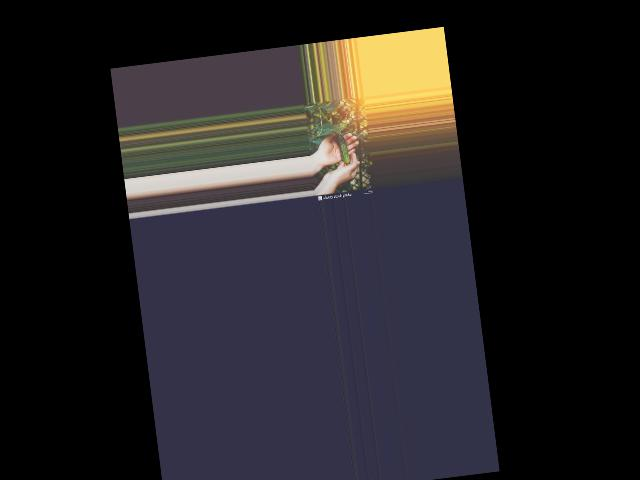cucumber: (335, 133, 350, 164)
